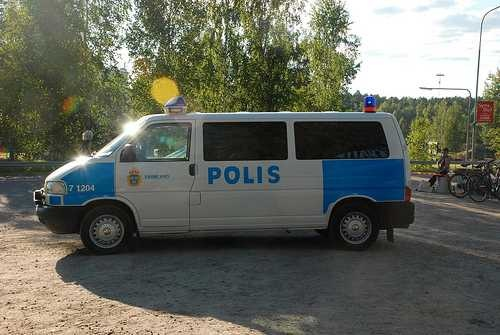Police Van: (49, 84, 427, 269)
